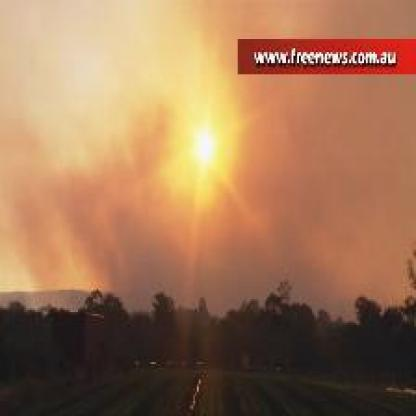other: (154, 91, 246, 192)
